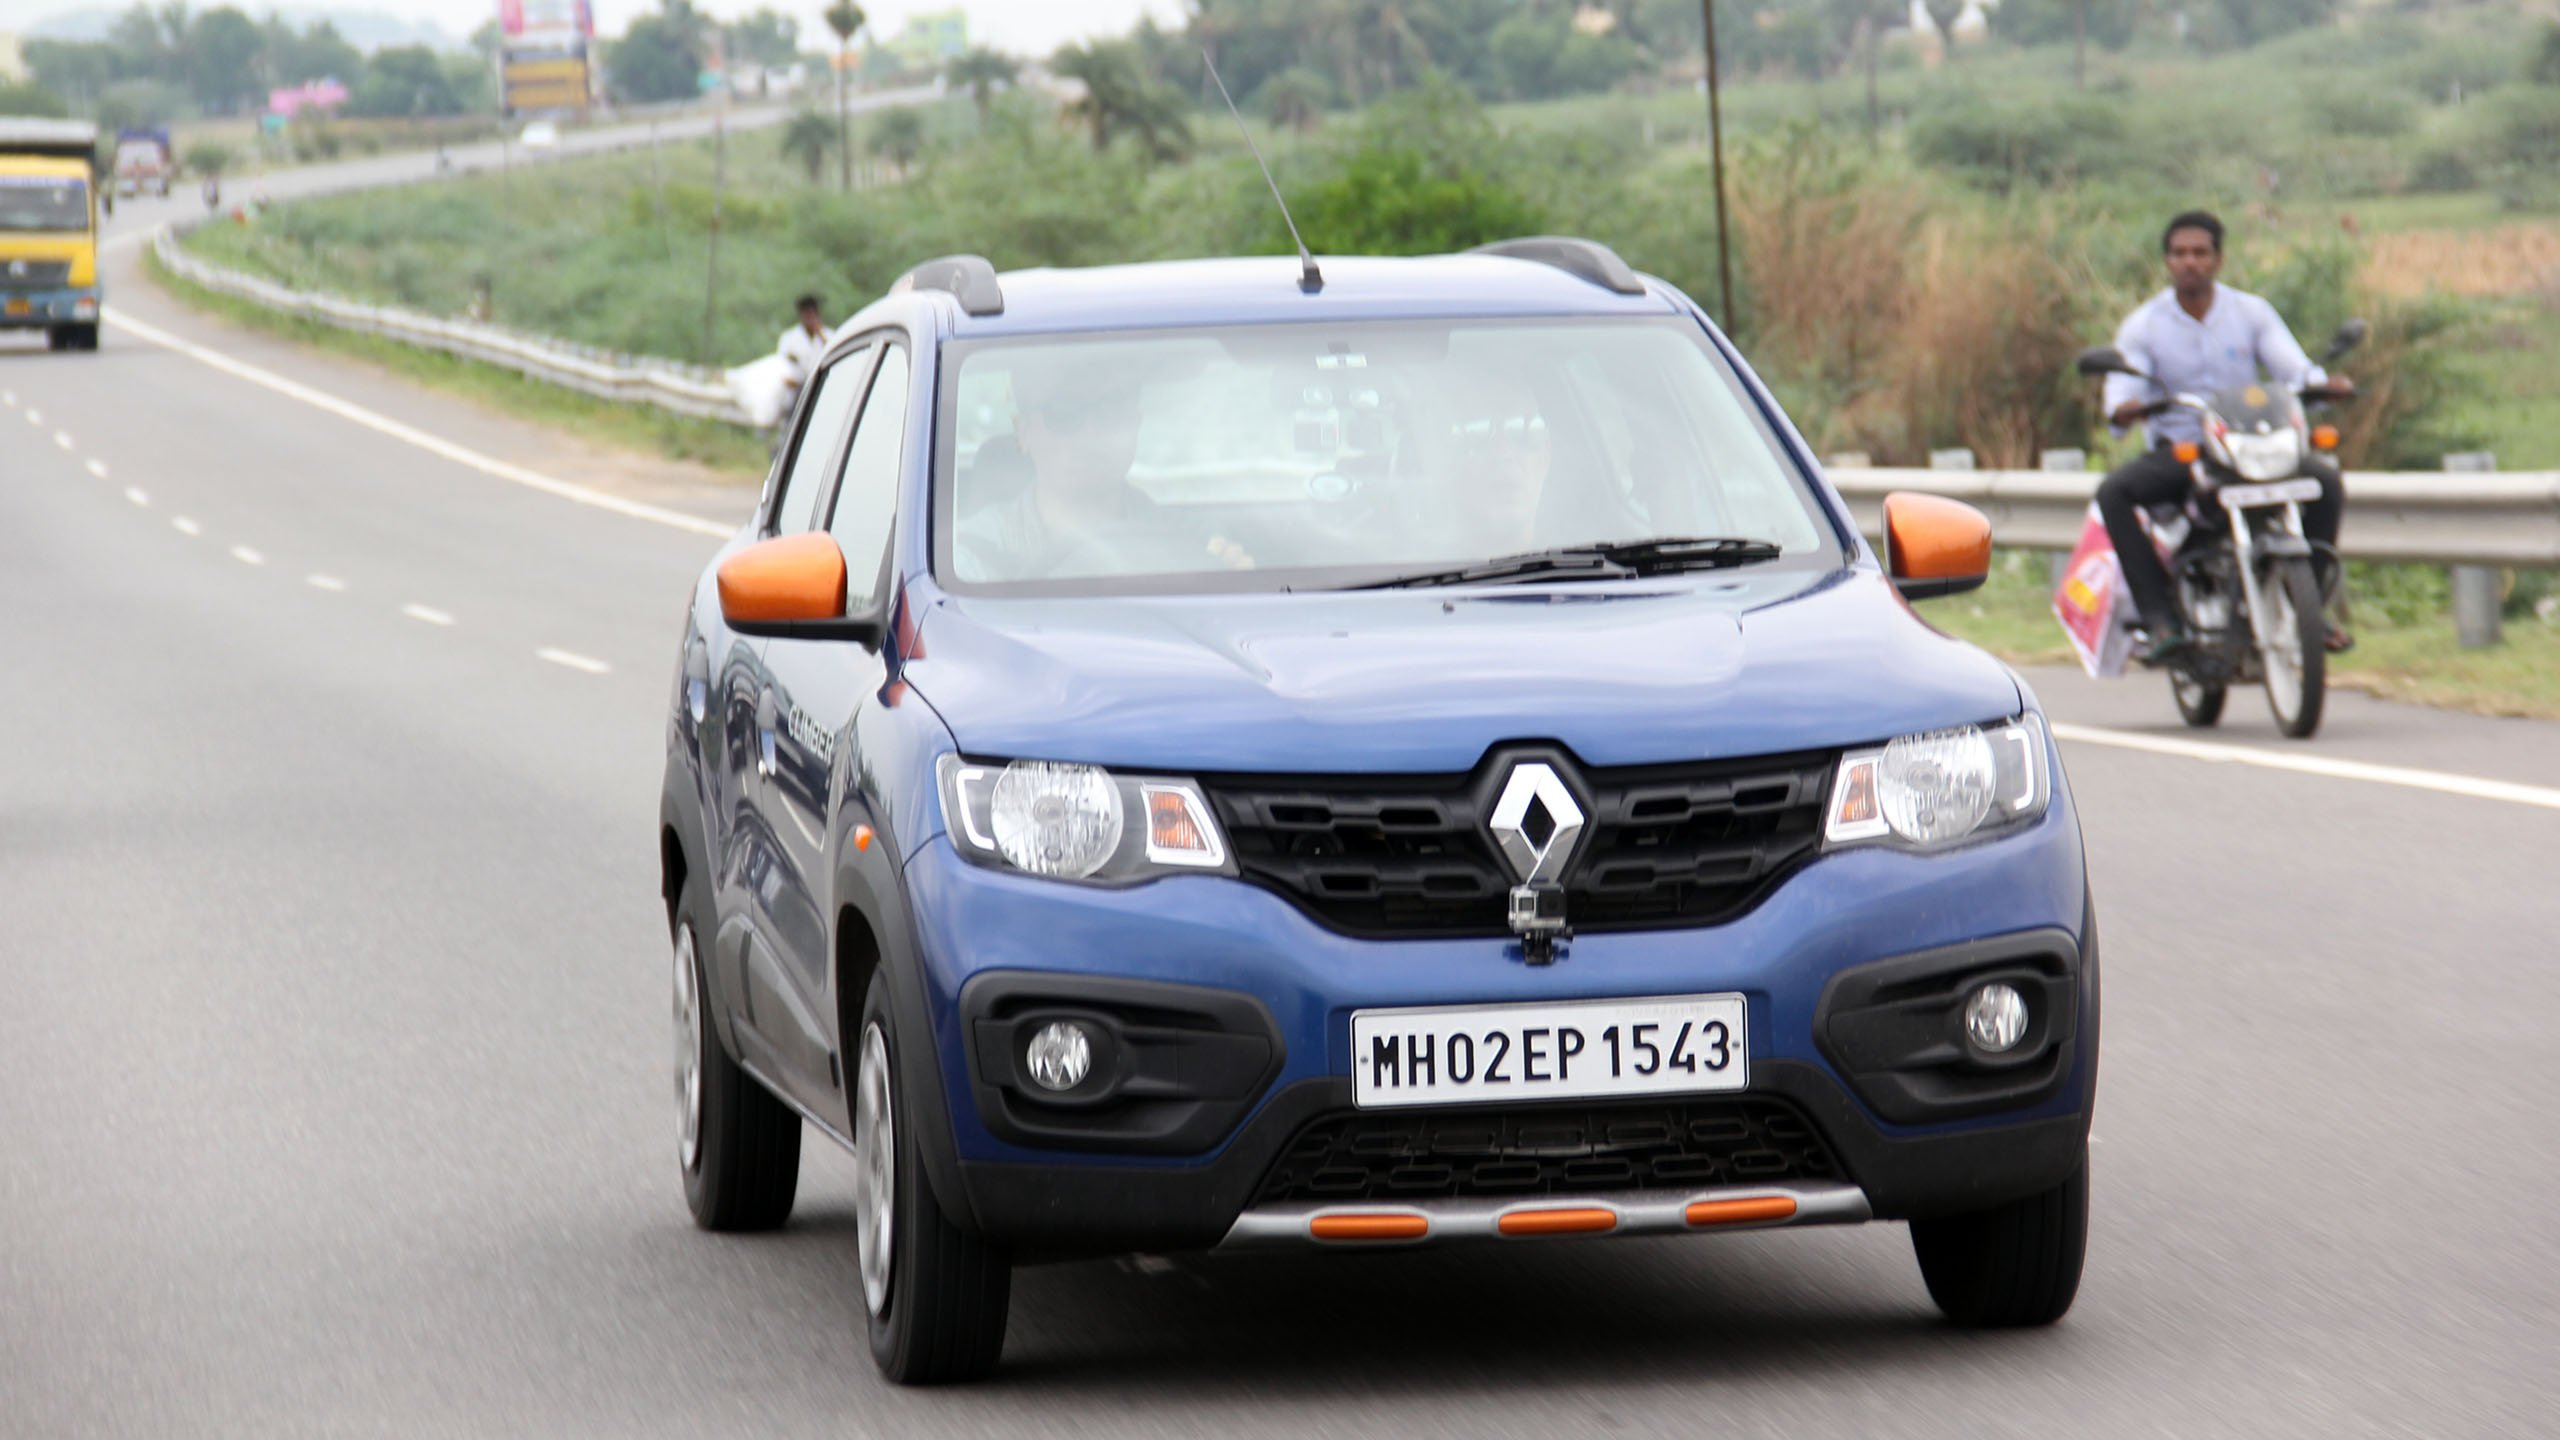bike: (2086, 201, 2410, 782)
car: (624, 227, 2127, 1401)
numberplate: (1332, 989, 1788, 1113), (2219, 473, 2327, 509)
